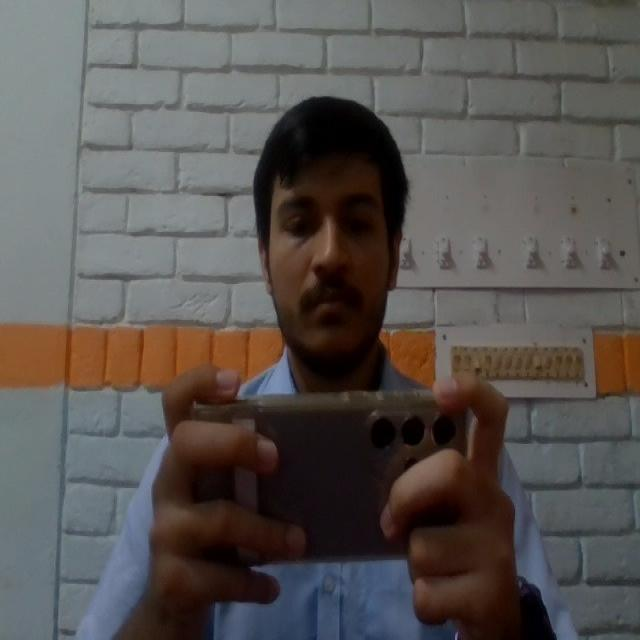phone: (178, 400, 482, 565)
using-phone: (82, 93, 578, 640)
